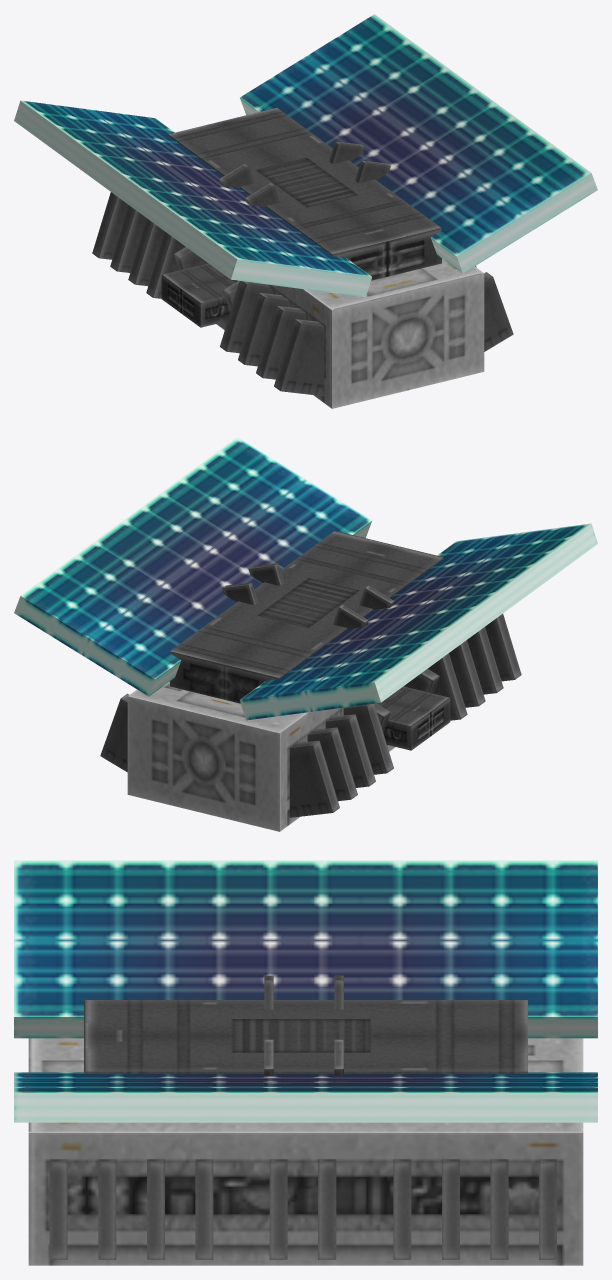
Rendered from solar.obj.
3 renders of one model, top to bottom at view 1: azimuth 30°, elevation 25°; view 2: azimuth 150°, elevation 25°; view 3: azimuth 270°, elevation 25°, orthographic. The views are drawn at different scales.
Visible parts, largest first — view 1: solar; view 2: solar; view 3: solar.
Part boxes in pixels (x1=…): solar: x1=14, y1=14, x2=597, y2=408; solar: x1=14, y1=437, x2=597, y2=831; solar: x1=14, y1=860, x2=597, y2=1265.
Size of the model in its own units: 1.37 by 0.636 by 1.4.
